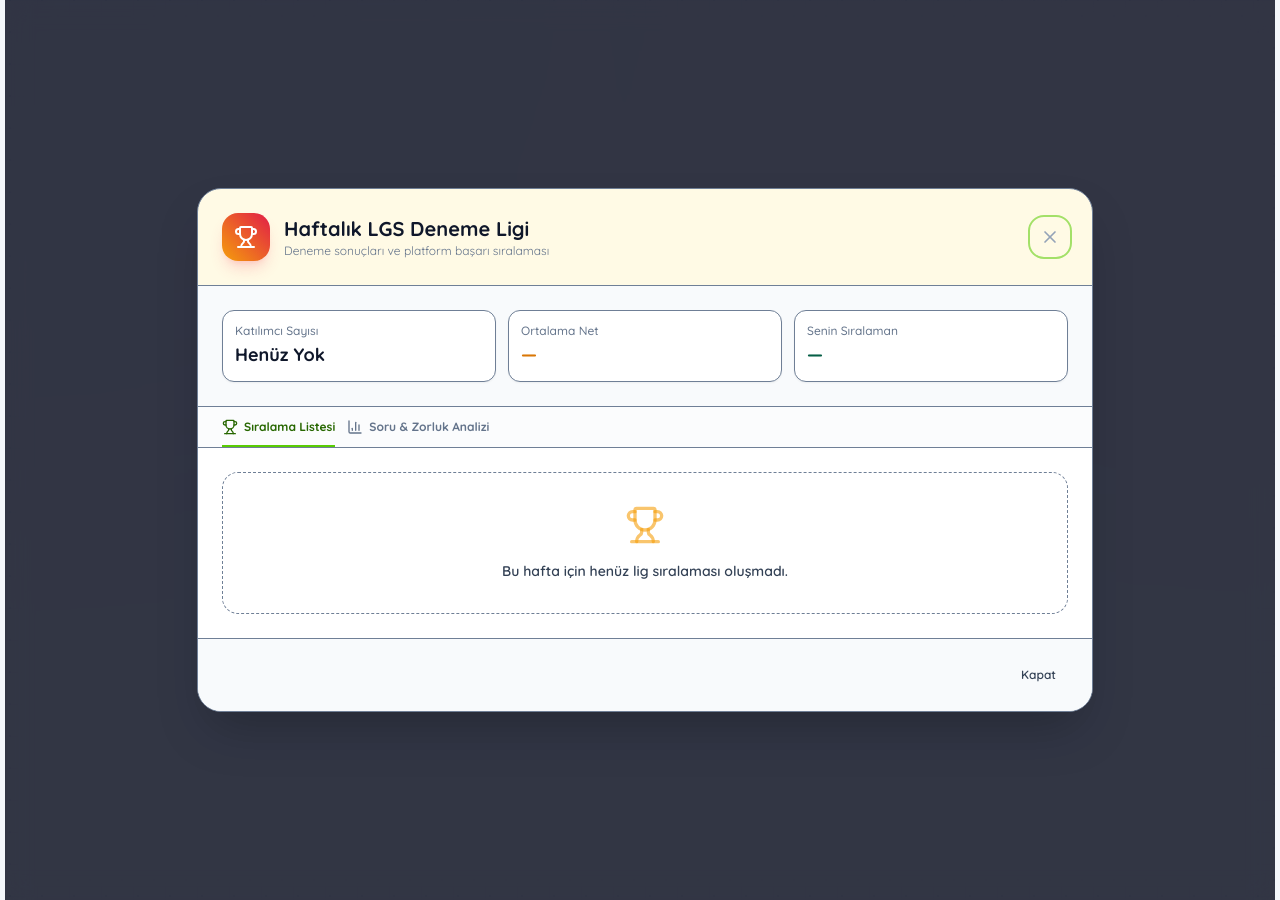
WeeklyMockLeagueModal › shows an honest analysis placeholder even with leaderboard data (0)
Click the button "Soru & Zorluk Analizi" at (418, 433), box [347,419,489,447]
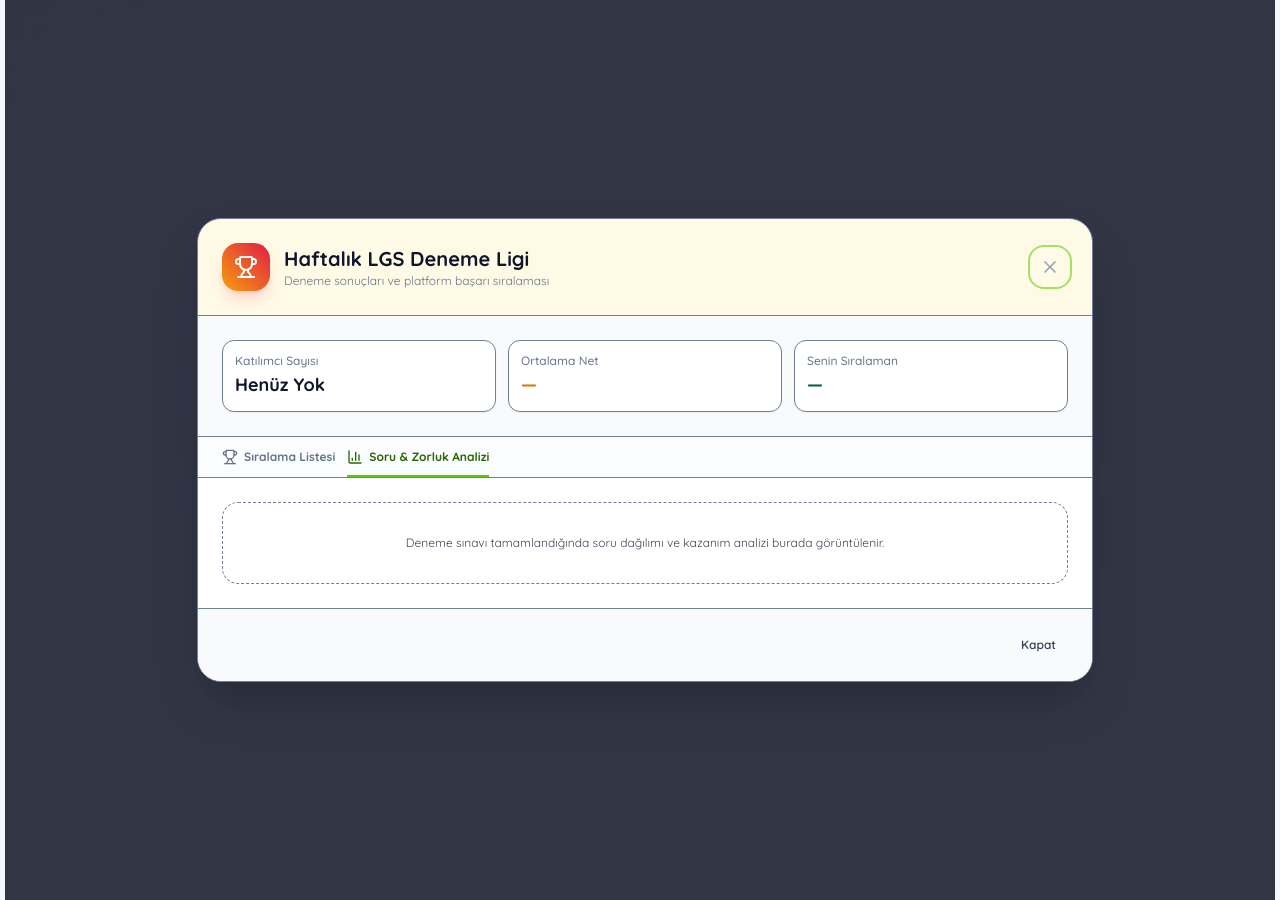
Check: the text "Deneme sınavı tamamlandığında soru dağılımı ve kazanım analizi burada görüntülenir." is shown, box [406,535,884,550]
Click the button "Sıralama Listesi" at (279, 463), box [222,449,335,477]
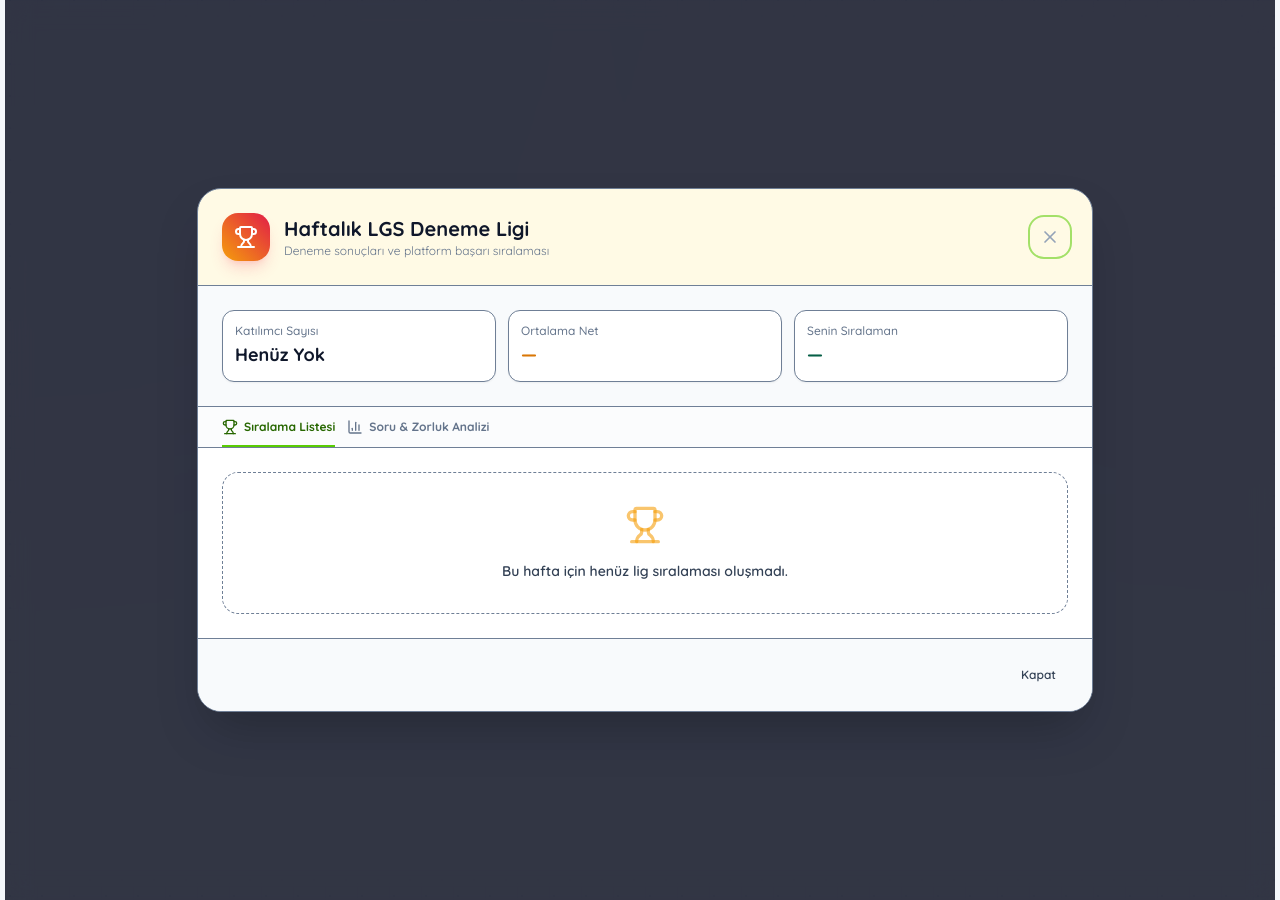
Check: the text "Deneme sınavı tamamlandığında soru dağılımı ve kazanım analizi burada görüntülenir." is gone
